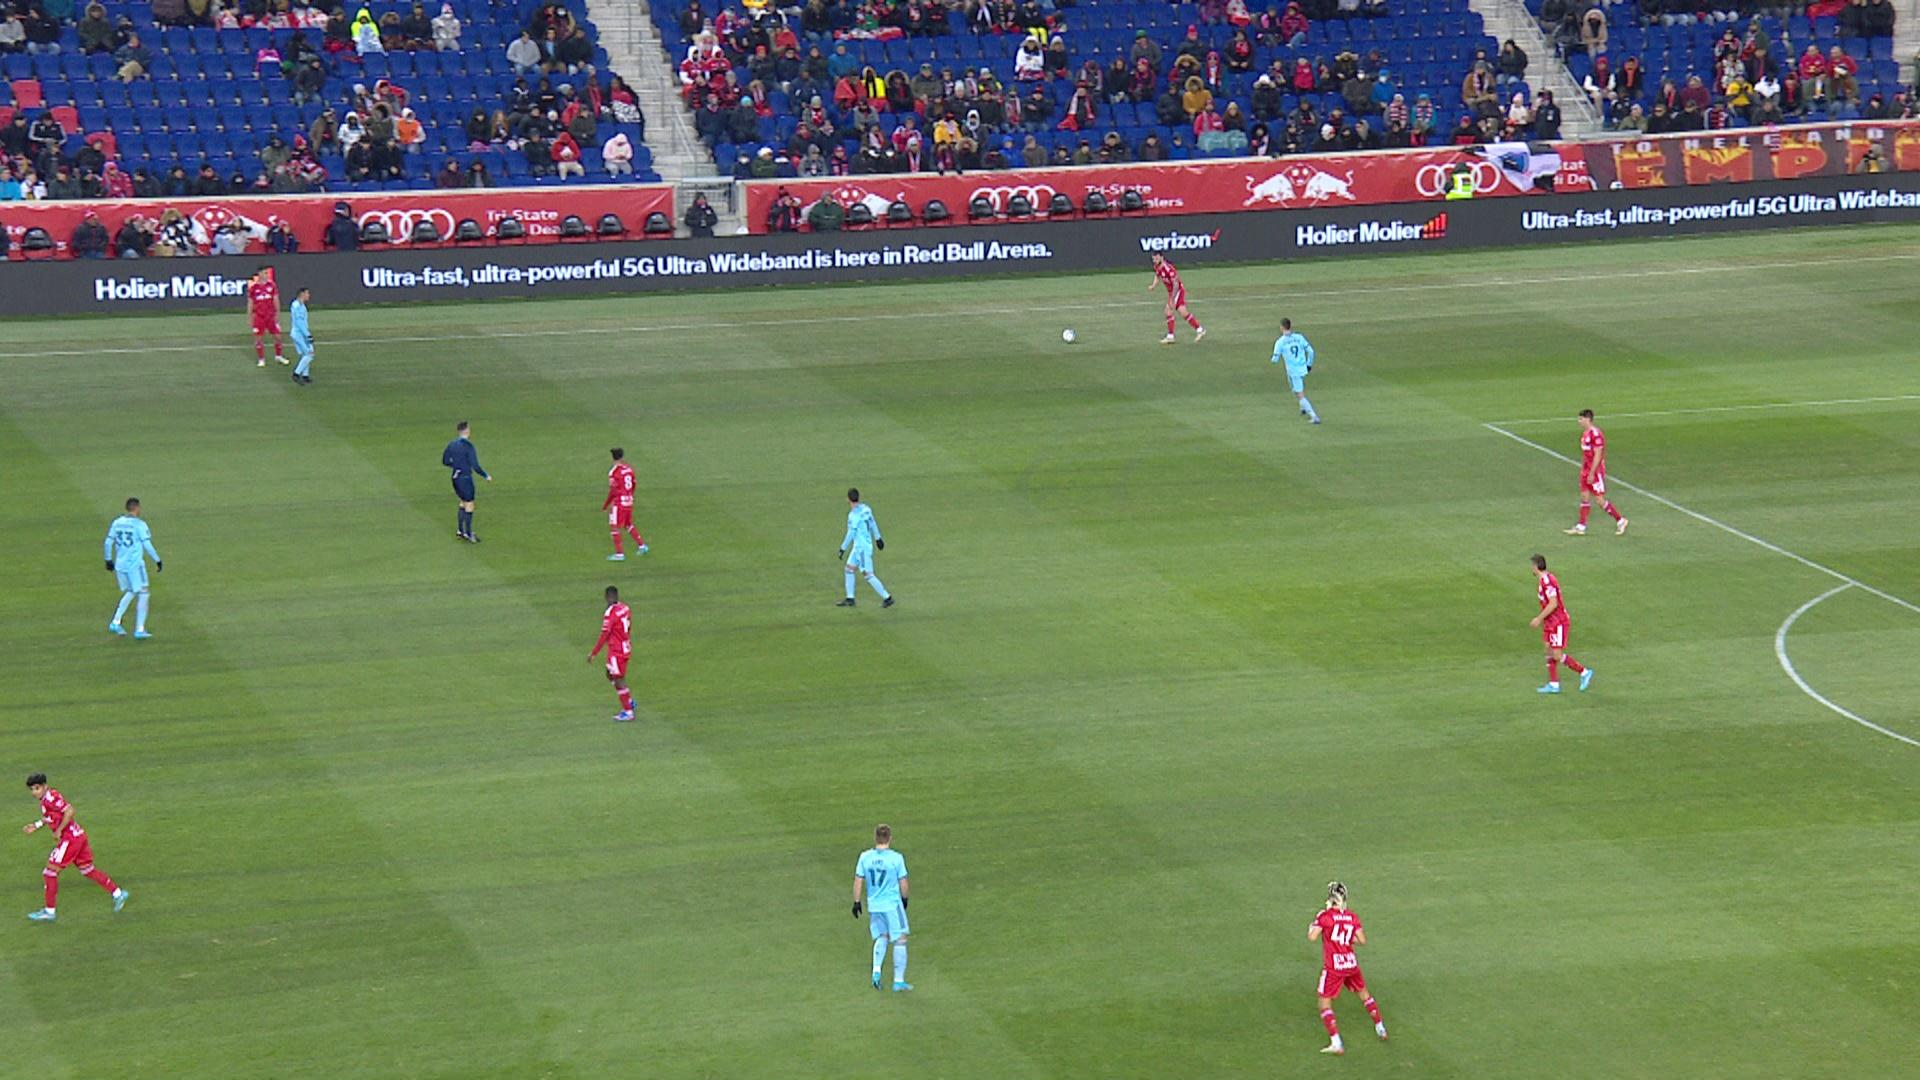football: (1062, 328, 1078, 344)
